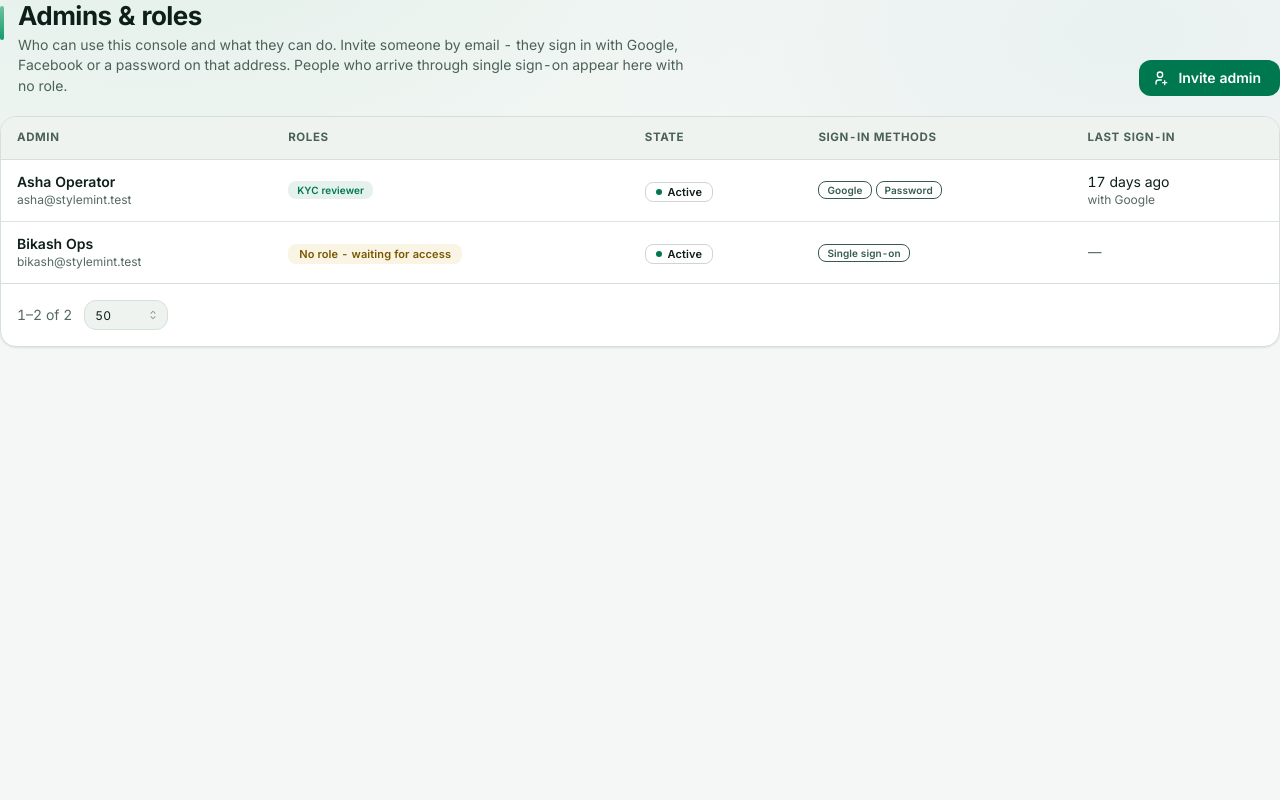
Test: invite admin › checks the email, name and roles before sending
Click the button "Invite admin" at coordinates (1210, 78), box [1140,60,1279,96]
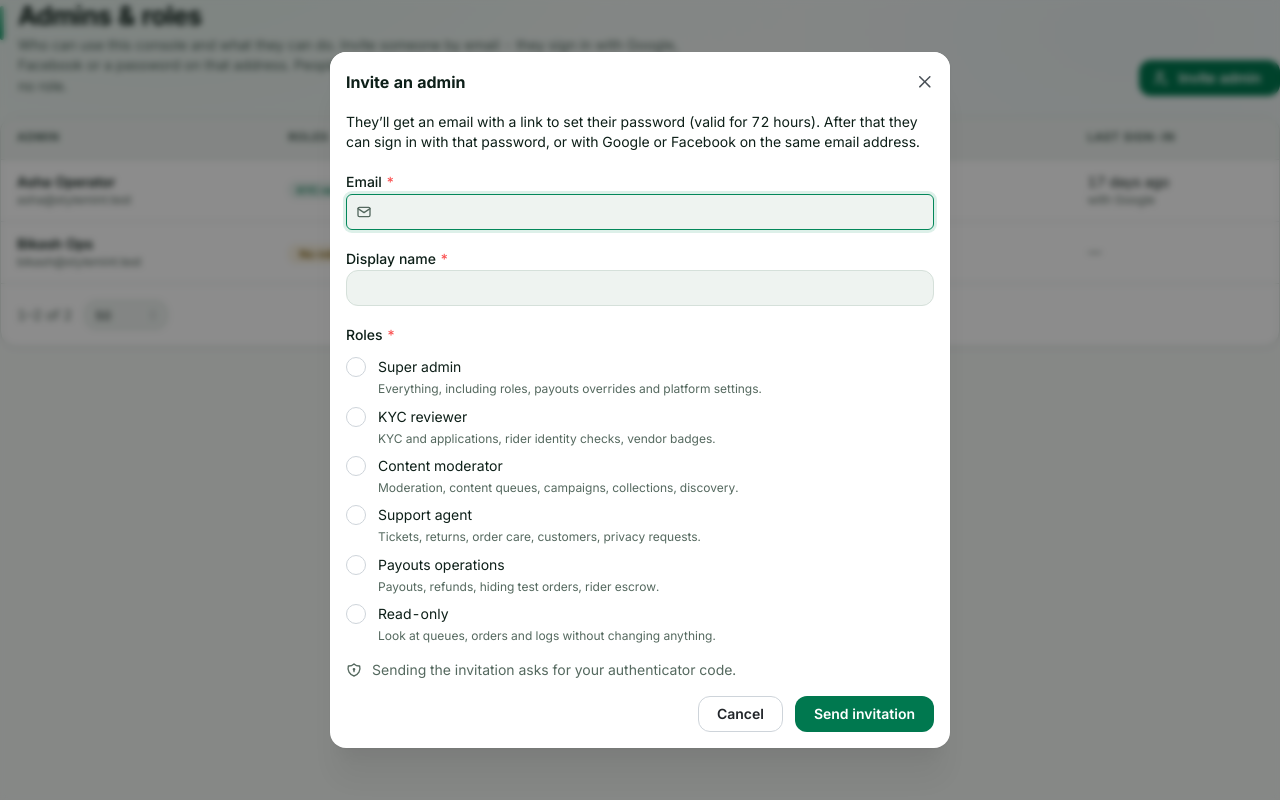
Click the button "Send invitation" at coordinates (864, 714), box [795,696,934,732]
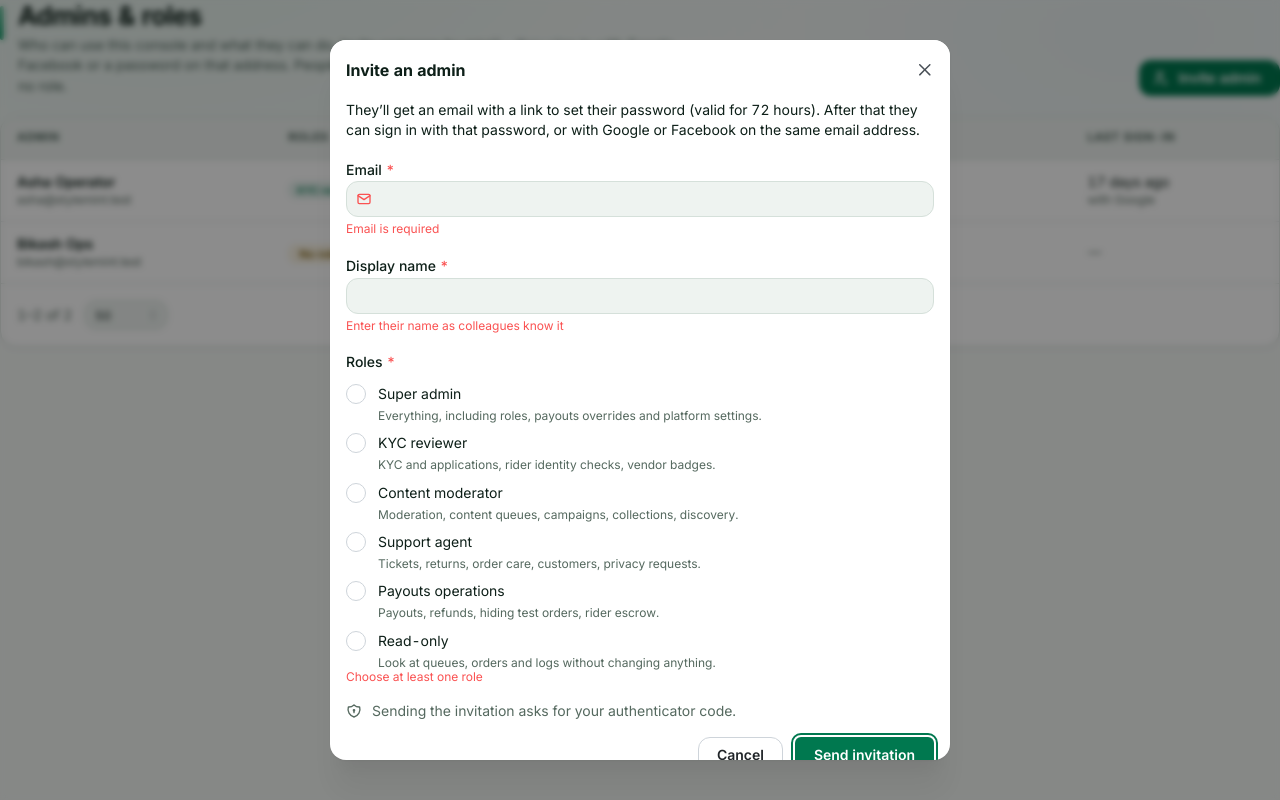
Expected: the text "Email is required" is shown, [346,221,439,236]
Expected: the text "Enter their name as colleagues know it" is shown, [346,318,564,333]
Expected: the text "Choose at least one role" is shown, [346,669,483,684]
